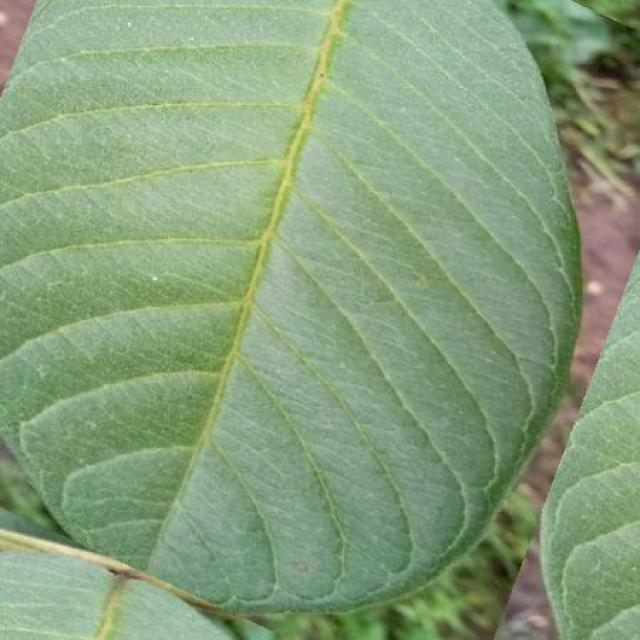Disease Free: (0, 0, 579, 613)
